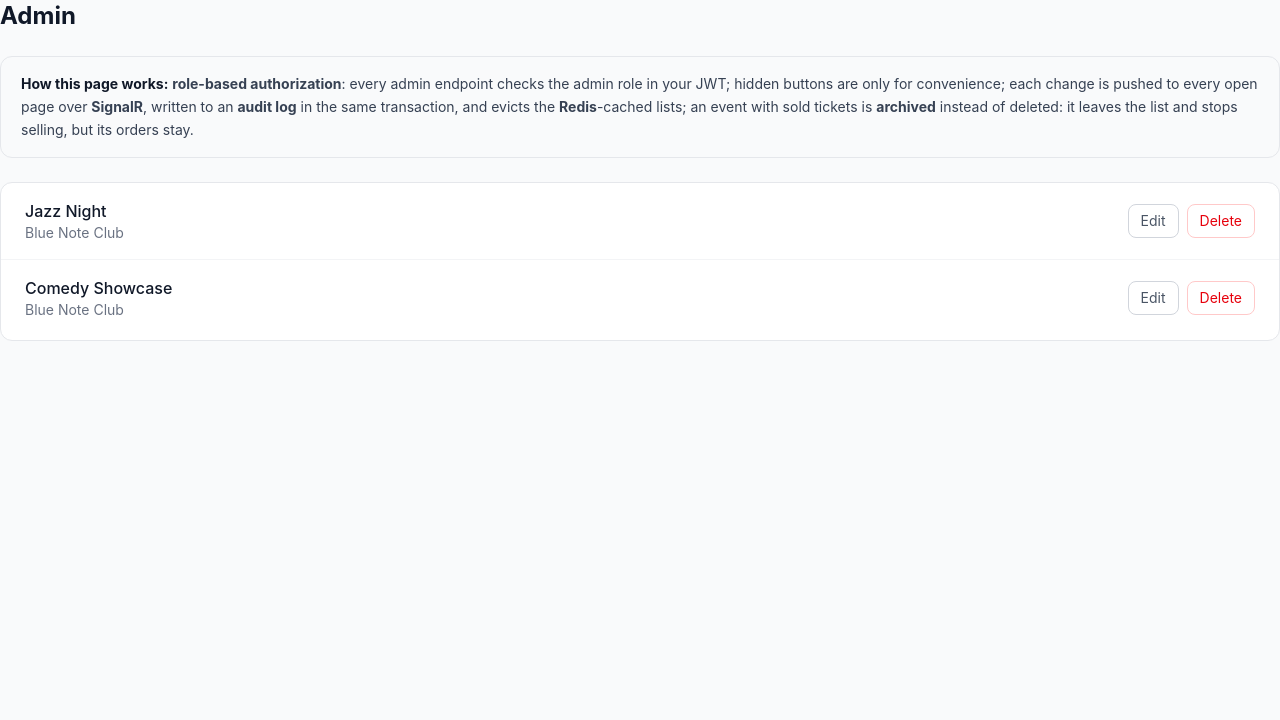
Scenario: AdminPage › removes the event after a confirmed delete
Click the button with aria-label "Delete Comedy Showcase".
click(1221, 298)  # box [1187,281,1255,315]
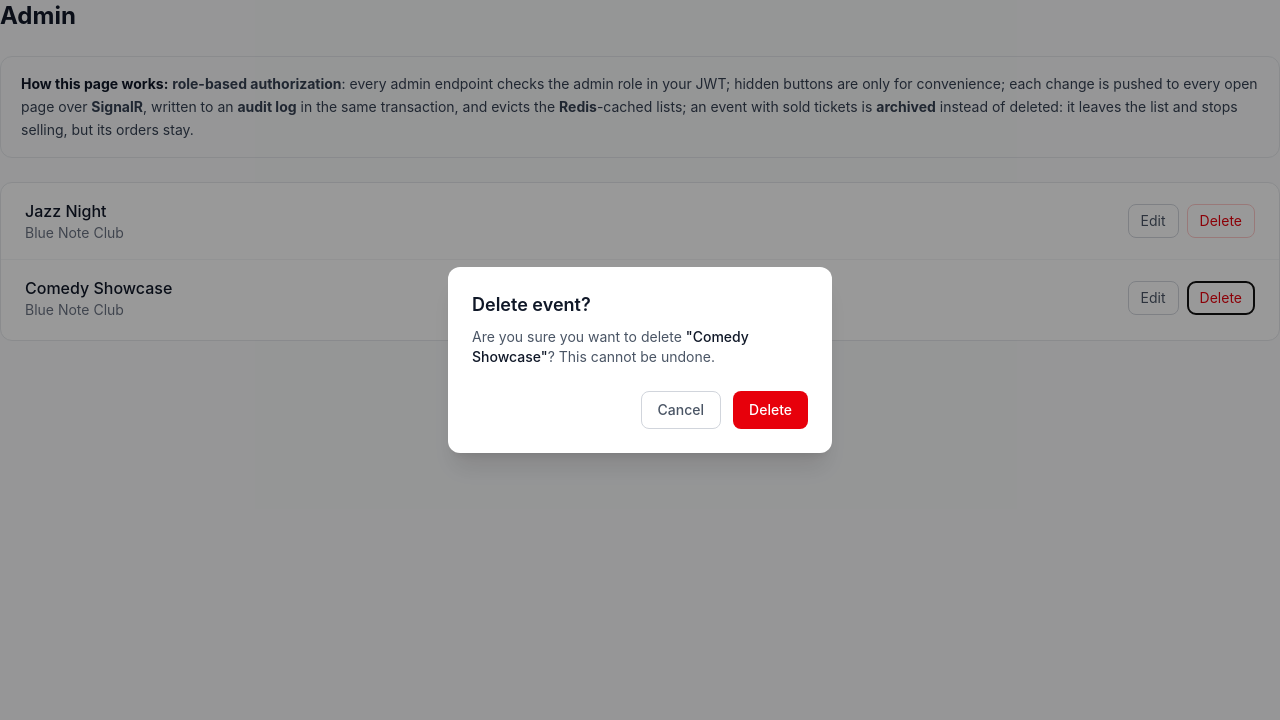
Click the button "Delete".
click(771, 410)  # box [733,391,808,429]
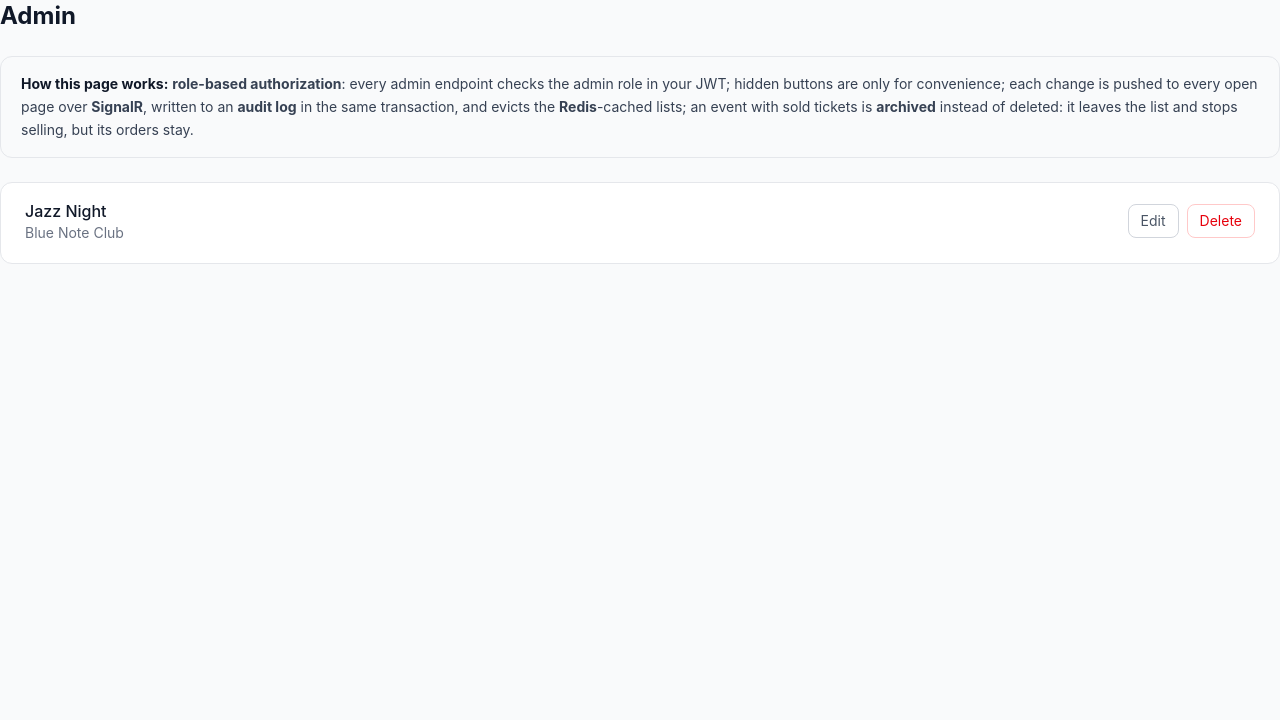
Check: the text "Comedy Showcase" is gone
Check: the dialog is gone
